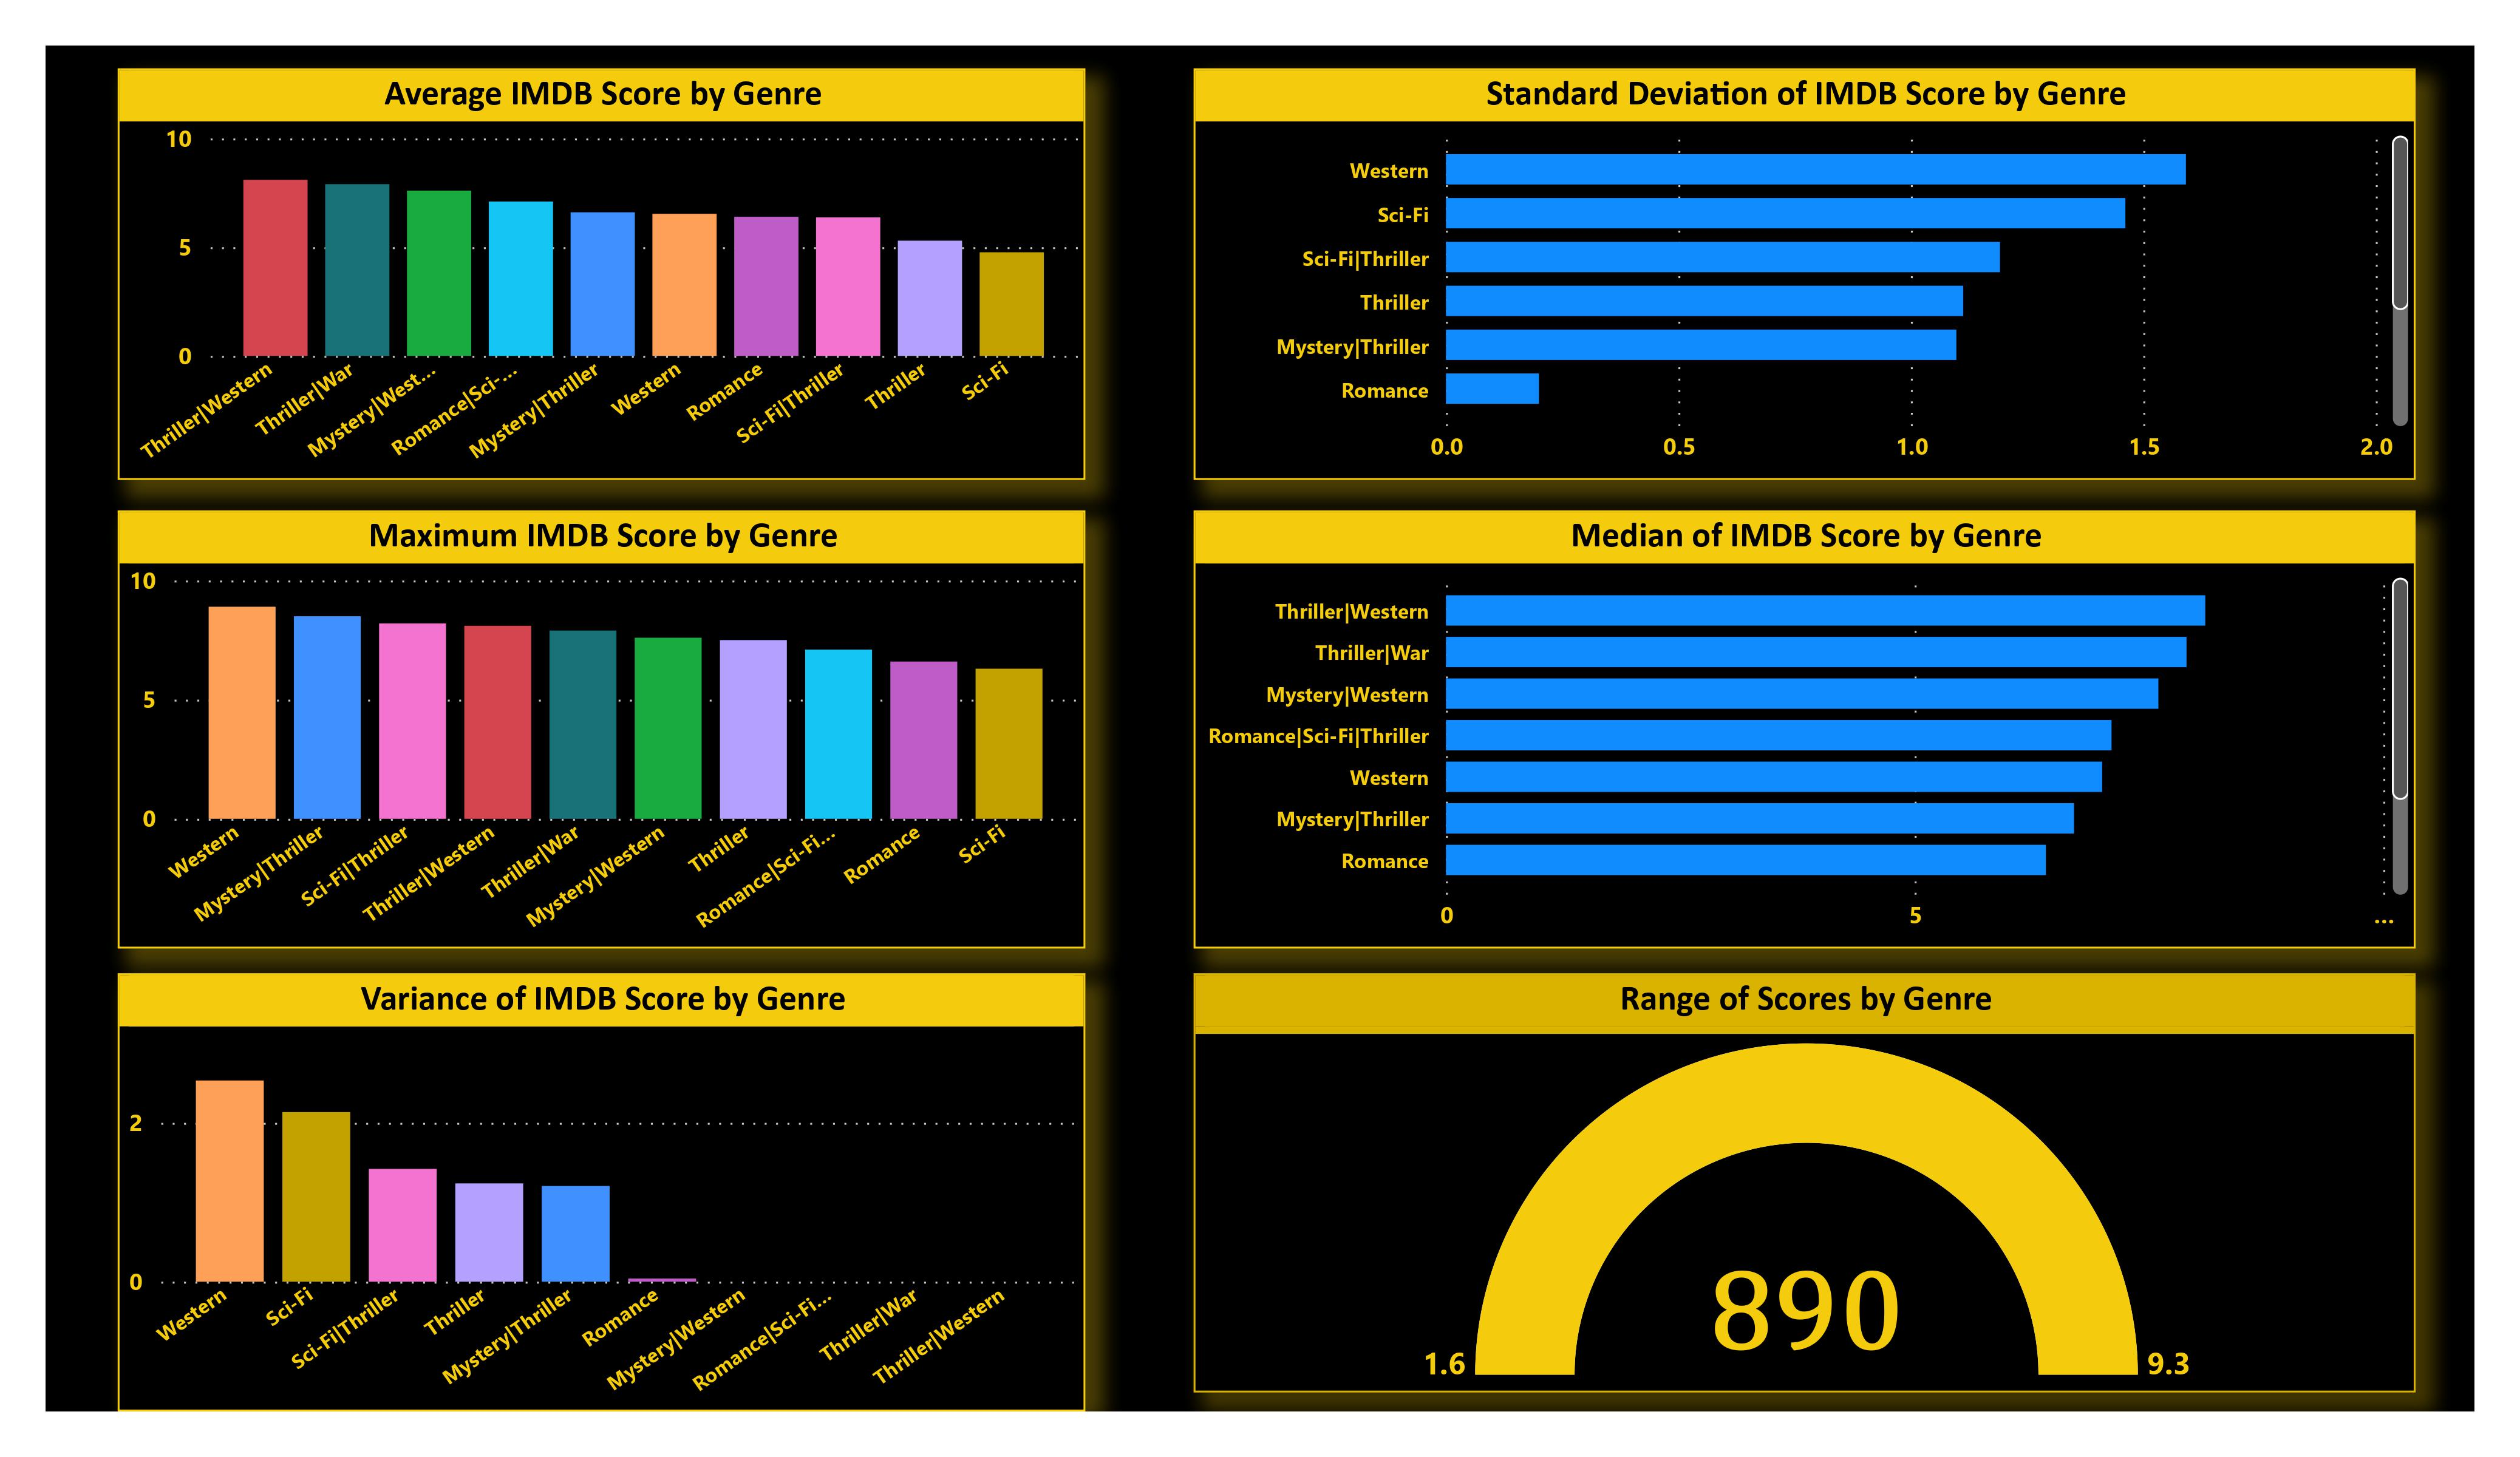

What the dashboard file says about the page in this screenshot:
{"tool":"powerbi","page":{"name":"Page 2","canvas":[1280,720],"ordinal":1},"visuals":[{"type":"lineStackedColumnComboChart","title":"Average IMDB Score by Genre","fields":{"Category":["imdb_cleaned.genres"],"Y":["Avg(imdb_cleaned.imdb_score)"],"Series":["imdb_cleaned.genres"]},"box":[38.4,12.3,510,216.6],"z":0},{"type":"lineStackedColumnComboChart","title":"Maximum IMDB Score by Genre","fields":{"Category":["imdb_cleaned.genres"],"Y":["Max(imdb_cleaned.imdb_score)"],"Series":["imdb_cleaned.genres"]},"box":[38.4,245.4,510,230.3],"z":1000},{"type":"lineStackedColumnComboChart","title":"Variance of IMDB Score by Genre","fields":{"Category":["imdb_cleaned.genres"],"Y":["Sum(imdb_cleaned.imdb_score)"],"Series":["imdb_cleaned.genres"]},"box":[38.4,489.5,510,230.3],"z":2000},{"type":"clusteredBarChart","title":"Standard Deviation of IMDB Score by Genre","fields":{"Category":["imdb_cleaned.genres"],"Y":["StandardDeviation(imdb_cleaned.imdb_score)"]},"box":[604.6,12.3,644.4,216.6],"z":3000},{"type":"clusteredBarChart","title":"Median of IMDB Score by Genre","fields":{"Category":["imdb_cleaned.genres"],"Y":["Median(imdb_cleaned.imdb_score)"]},"box":[604.6,245.4,644.4,230.3],"z":4000},{"type":"gauge","title":"Range of Scores by Genre","fields":{"MinValue":["Min(imdb_cleaned.imdb_score)"],"MaxValue":["Max(imdb_cleaned.imdb_score)"],"Y":["Count(imdb_cleaned.genres)"]},"box":[604.6,489.5,644.4,220.7],"z":5000}]}

Visuals, with their boxes in screenshot pixels (x1, y1, x2, y2):
"Average IMDB Score by Genre" lineStackedColumnComboChart: 118, 69, 1086, 480
"Maximum IMDB Score by Genre" lineStackedColumnComboChart: 118, 511, 1086, 948
"Variance of IMDB Score by Genre" lineStackedColumnComboChart: 118, 974, 1086, 1411
"Standard Deviation of IMDB Score by Genre" clusteredBarChart: 1193, 69, 2416, 480
"Median of IMDB Score by Genre" clusteredBarChart: 1193, 511, 2416, 948
"Range of Scores by Genre" gauge: 1193, 974, 2416, 1393
